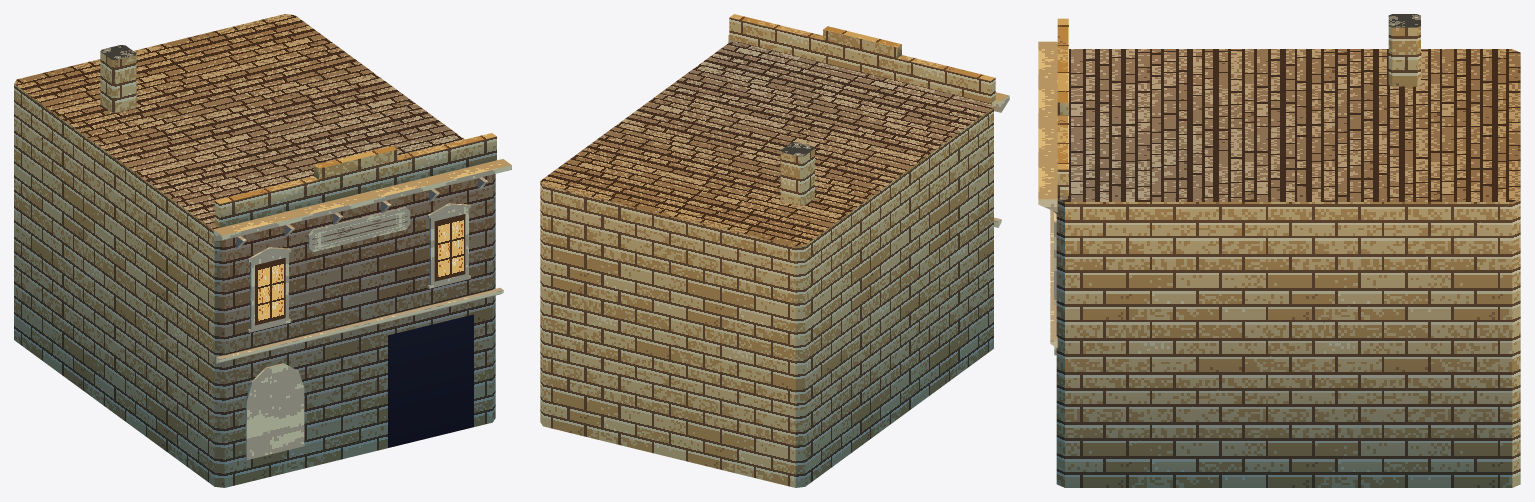
The model's file is wtown.bank__entry.glb.
3 views of the same model, side by side, from view 1: azimuth 30°, elevation 25°; view 2: azimuth 150°, elevation 25°; view 3: azimuth 270°, elevation 25° (orthographic). The views are drawn at different scales.
Parts seen in each view (by area): view 1: kit_body, kit_trim, kit_card_panes, kit_windows, kit_chimney; view 2: kit_body, kit_trim, kit_chimney; view 3: kit_body, kit_trim, kit_chimney.
Boxes of the visible parts, <box> form: kit_body: <box>14,14,495,487</box>; kit_trim: <box>213,133,511,363</box>; kit_card_panes: <box>255,210,473,447</box>; kit_windows: <box>245,203,470,459</box>; kit_chimney: <box>100,45,136,112</box>; kit_body: <box>540,41,993,487</box>; kit_trim: <box>728,14,1009,227</box>; kit_chimney: <box>780,142,814,206</box>; kit_body: <box>1056,49,1520,487</box>; kit_trim: <box>1038,18,1068,347</box>; kit_chimney: <box>1388,14,1420,86</box>.
Bounding box in the file's own units: 8.04 × 8.2 × 10.4.
7 materials, 7 textured.
